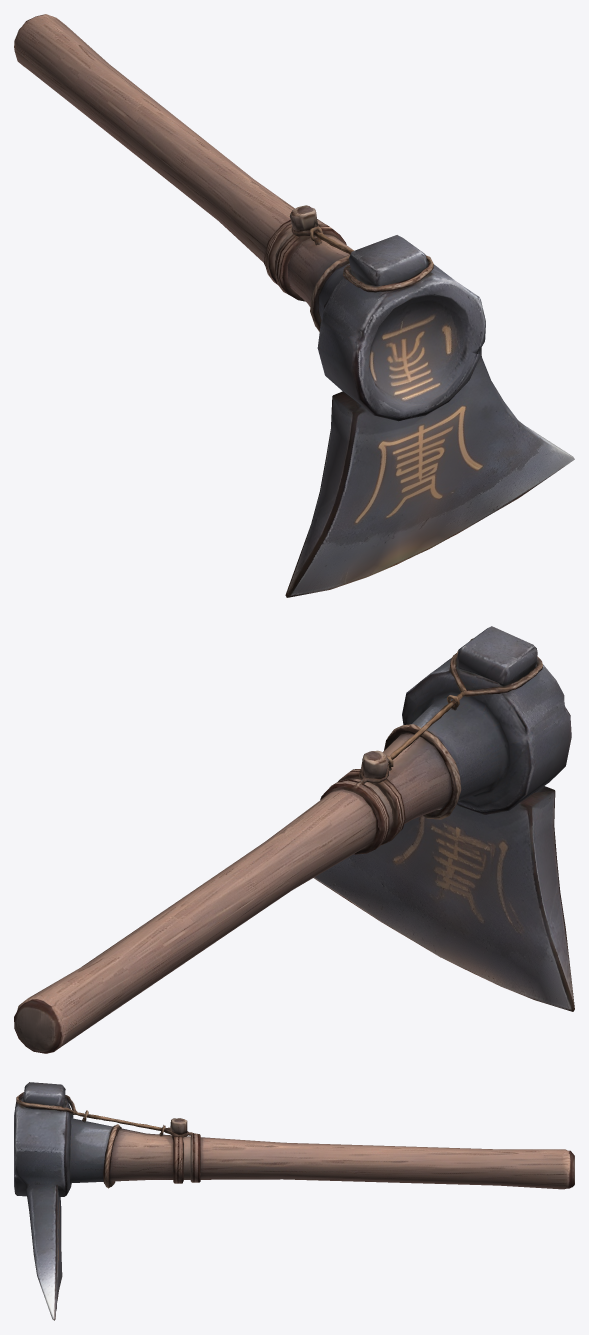
File: 傀儡稿子.fbx
3 renders of one model, top to bottom at view 1: azimuth 30°, elevation 25°; view 2: azimuth 150°, elevation 25°; view 3: azimuth 270°, elevation 25°, orthographic. The views are drawn at different scales.
Visible parts, largest first — view 1: tripo_node_9c9f7c34; view 2: tripo_node_9c9f7c34; view 3: tripo_node_9c9f7c34.
Part boxes in pixels (x1,y1,x2,y2): tripo_node_9c9f7c34: (14, 14, 574, 597); tripo_node_9c9f7c34: (14, 626, 574, 1053); tripo_node_9c9f7c34: (14, 1082, 574, 1320).
Bounding box in the file's own units: 0.3809 × 0.4355 × 0.998.
